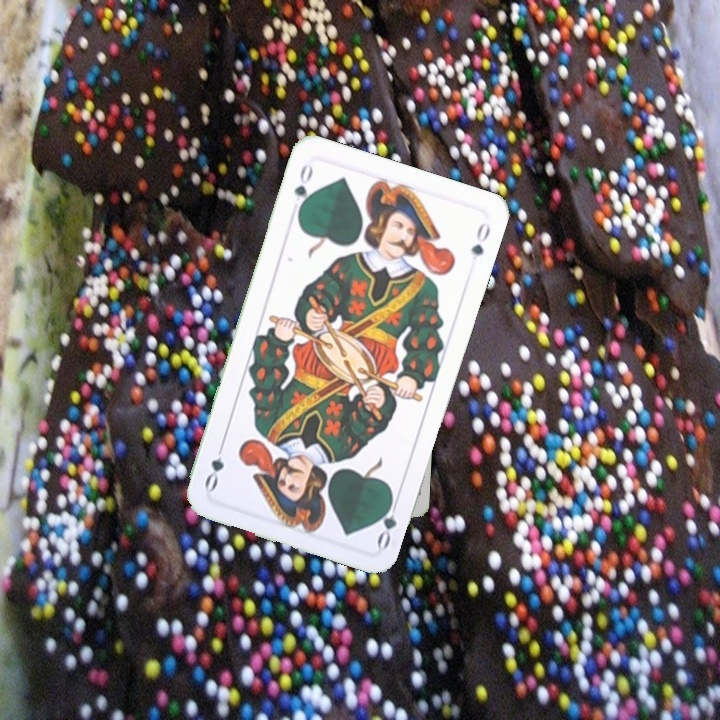GO: (373, 491, 402, 551), (290, 160, 316, 218)
